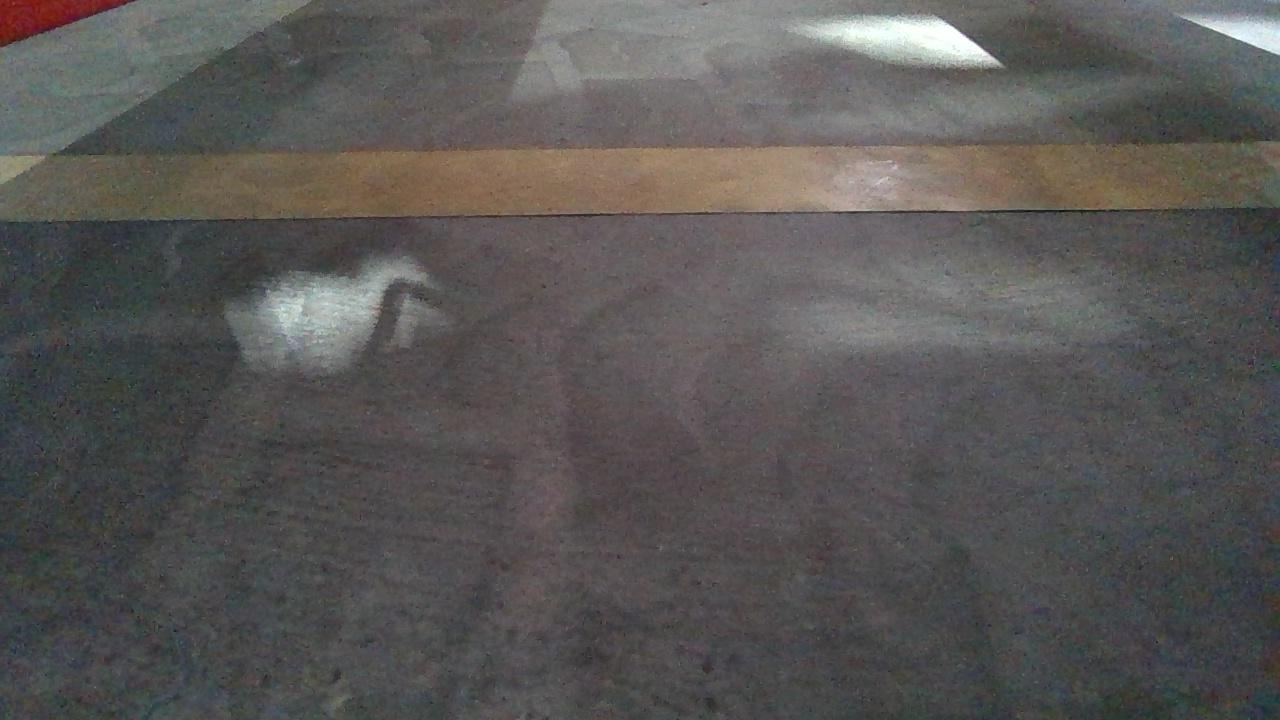yellow_line: (0, 133, 1280, 228)
